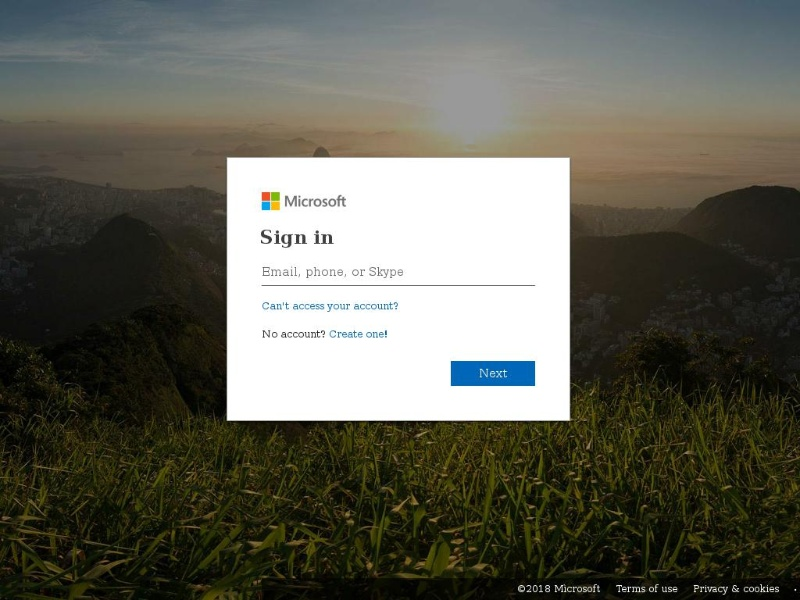msft: (251, 185, 370, 219)
